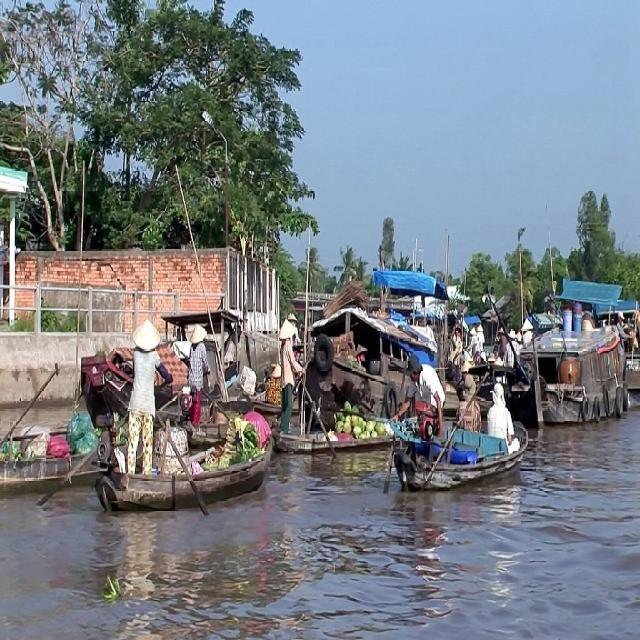Hyacinth: (95, 578, 130, 604)
boat: (96, 410, 276, 524), (287, 298, 439, 421), (387, 408, 538, 492), (523, 321, 631, 432)
